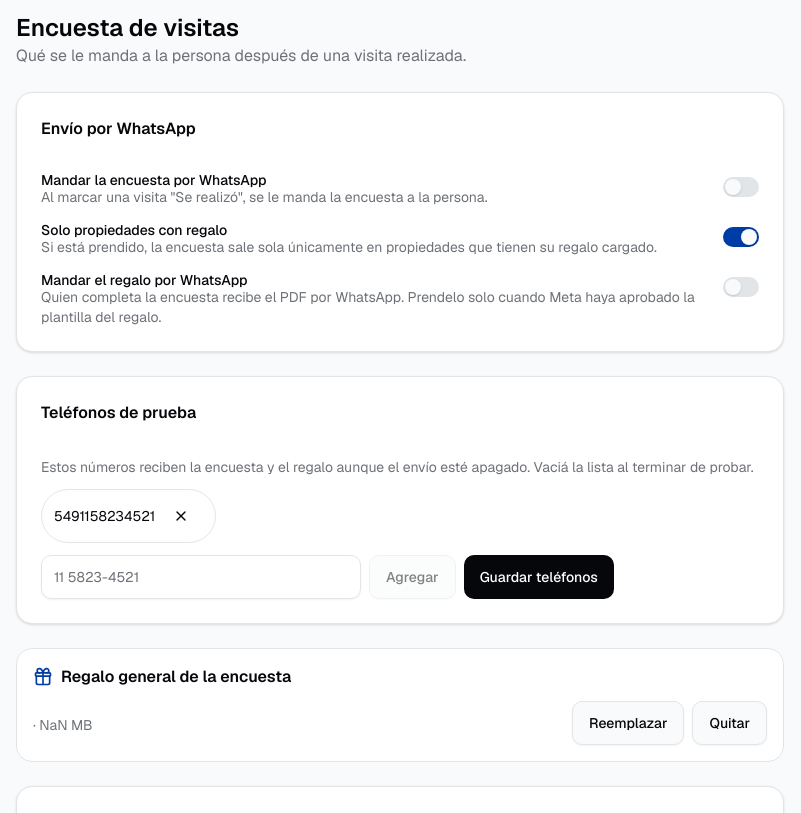
Test: /settings/encuesta › un teléfono que el servidor rechaza muestra su error
The image size is (801, 813).
In the field named "Agregar teléfono de prueba": (201, 577) [41,555,361,599], type "123"
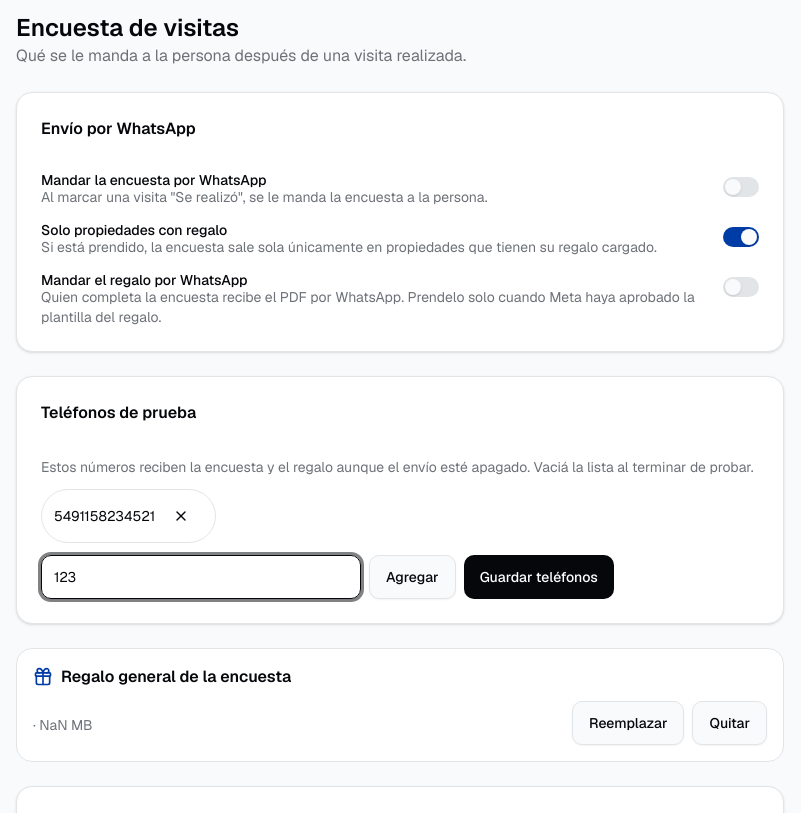
Click the button "Agregar": (412, 577) [369,555,456,599]
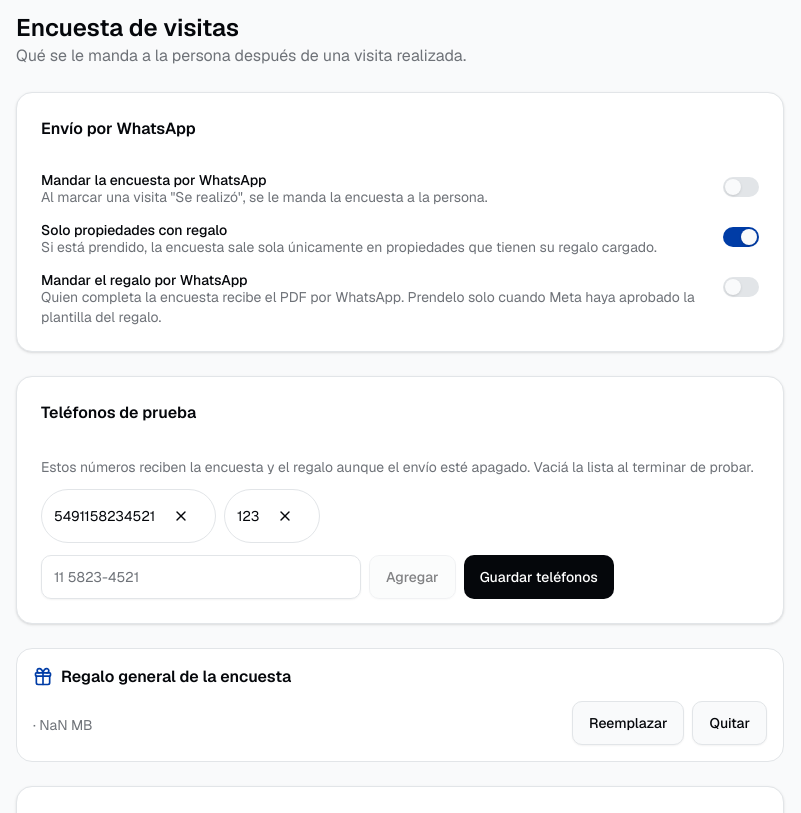
Click the button "Guardar teléfonos": (539, 577) [464,555,614,599]
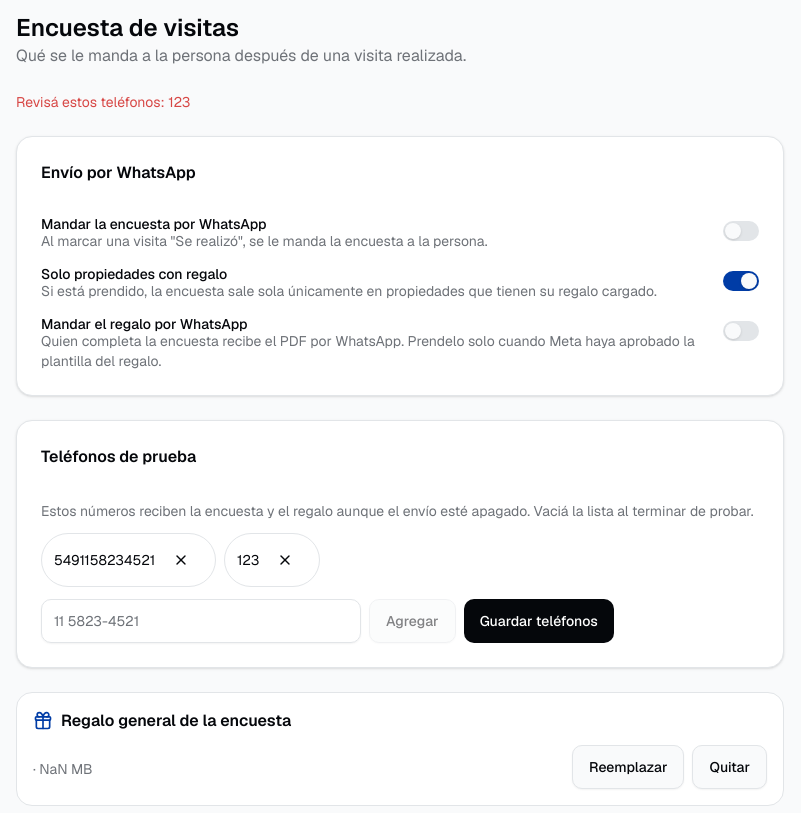
Check: the message reads "Revisá estos teléfonos: 123", box [16,93,190,111]
